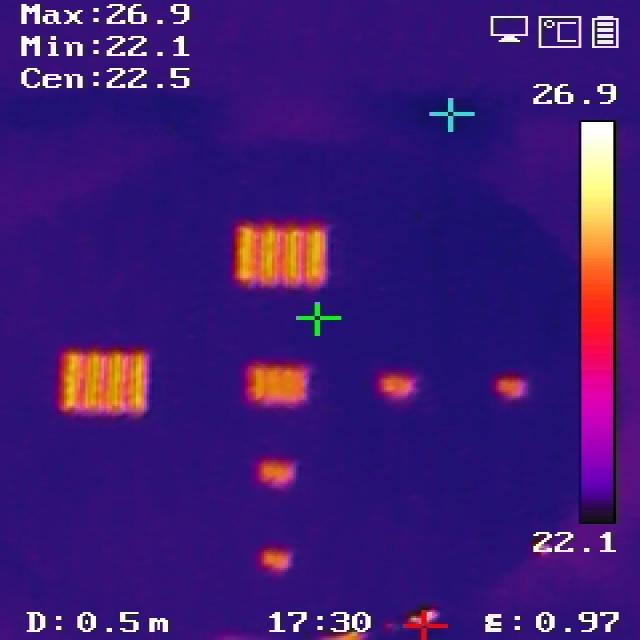Distinguishable 4-bar target: (62, 345, 154, 418), (233, 218, 331, 282)
Indistinguishable 4-bar target: (257, 462, 299, 489), (258, 544, 298, 570), (381, 367, 412, 394), (508, 379, 523, 394)
threshold 4-bar target: (252, 359, 311, 404)
